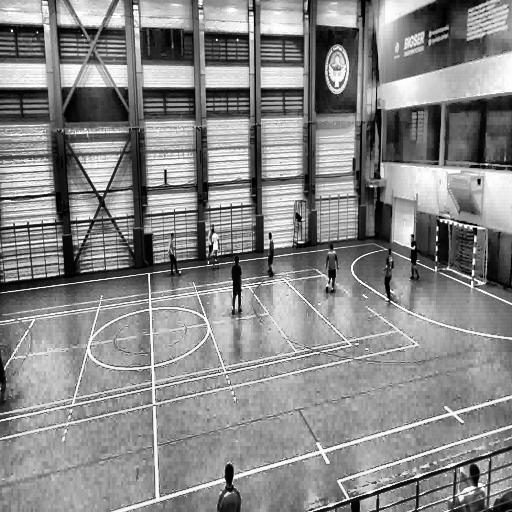player: (216, 463, 242, 512), (231, 254, 242, 313), (325, 243, 337, 295), (0, 331, 8, 404), (383, 247, 393, 301), (168, 232, 180, 275), (410, 234, 420, 281), (210, 228, 220, 269), (208, 224, 218, 265), (267, 232, 274, 277)
